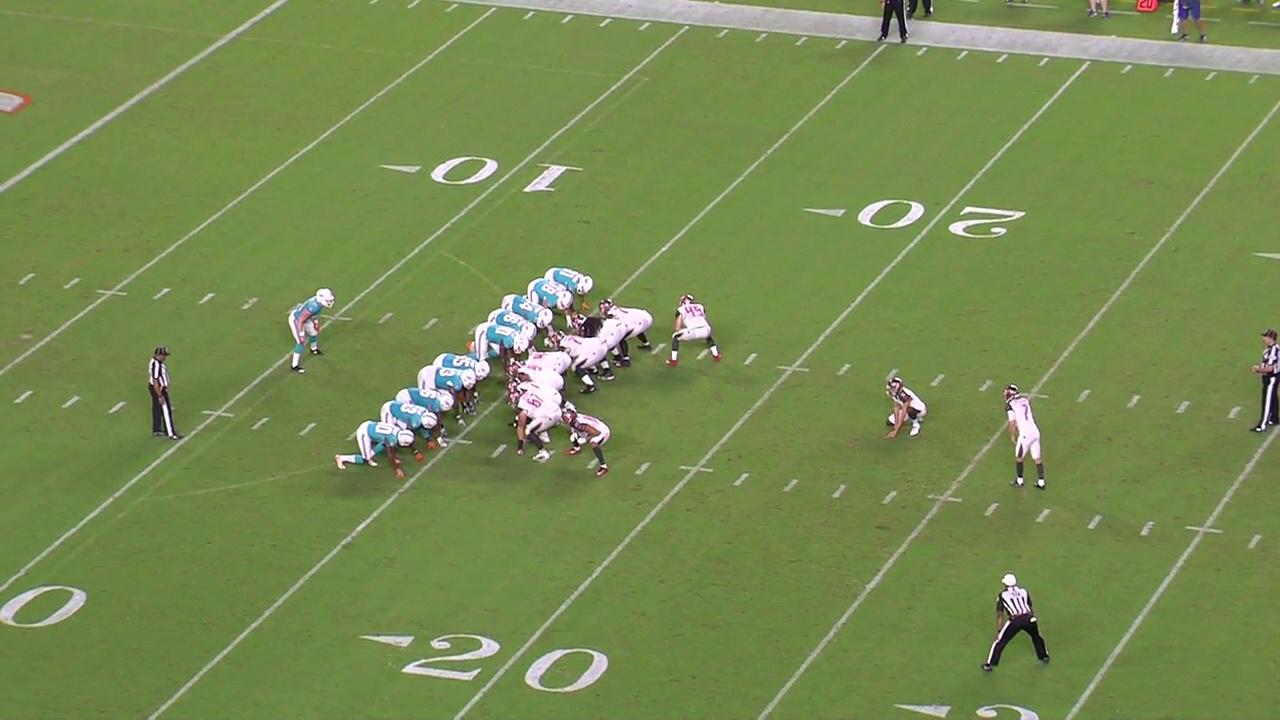five_hash: (924, 491, 965, 507), (677, 461, 716, 477), (1184, 522, 1229, 535), (201, 407, 237, 420), (775, 362, 813, 374), (97, 286, 128, 298)
hash: (1030, 502, 1058, 529), (827, 478, 853, 505), (730, 467, 754, 494), (295, 418, 321, 442), (926, 369, 950, 393), (1136, 517, 1160, 541), (982, 497, 1006, 521), (12, 386, 36, 410), (1223, 400, 1246, 425), (106, 395, 129, 420), (1169, 397, 1195, 419), (876, 485, 900, 508), (632, 457, 656, 480), (1244, 529, 1266, 554), (194, 289, 220, 310), (973, 376, 999, 397), (1084, 511, 1107, 534), (780, 473, 803, 496), (59, 391, 82, 414), (149, 283, 172, 305), (1072, 385, 1095, 407), (420, 313, 442, 335), (1123, 391, 1145, 413), (487, 440, 509, 462), (16, 267, 36, 290), (60, 274, 82, 294), (833, 361, 855, 381), (882, 365, 904, 385), (239, 296, 262, 315), (248, 414, 271, 433), (742, 349, 762, 369), (374, 309, 395, 326)
number: (399, 628, 611, 697), (856, 195, 1031, 246), (425, 152, 588, 201)
